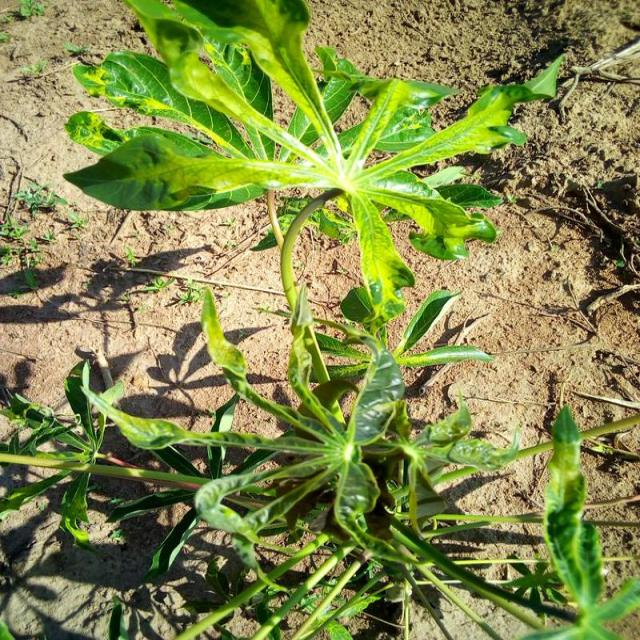cassava leaf: (62, 0, 564, 330)
